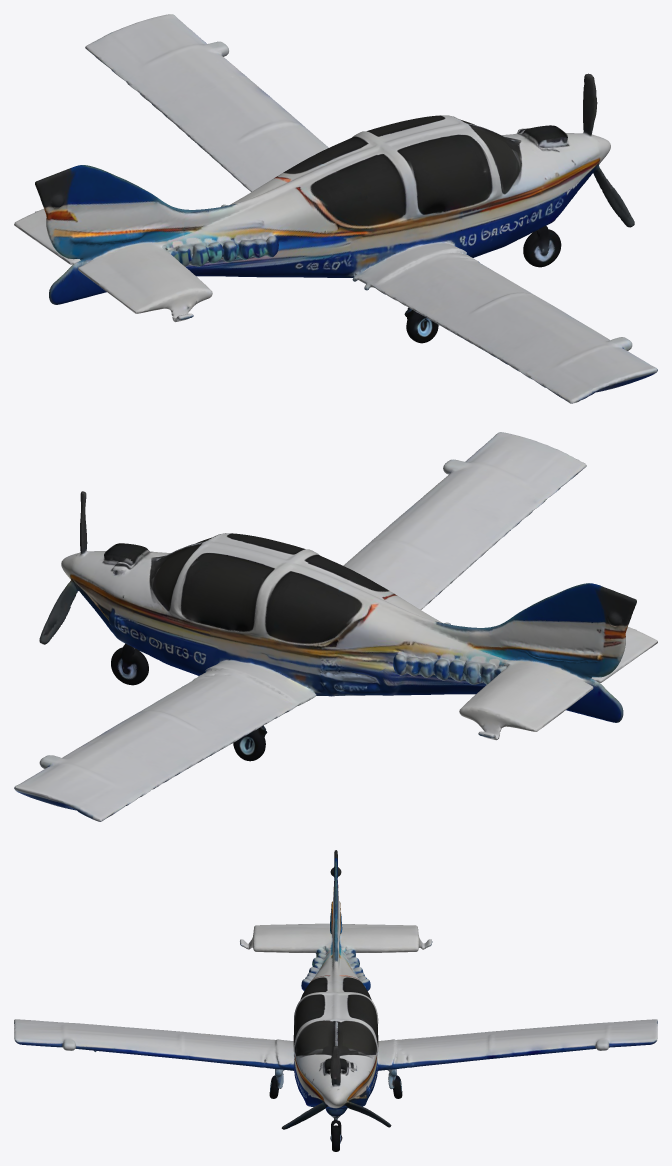
3 renders of one model, top to bottom at view 1: azimuth 30°, elevation 25°; view 2: azimuth 150°, elevation 25°; view 3: azimuth 270°, elevation 25°, orthographic. The views are drawn at different scales.
Parts seen in each view (by area): view 1: tripo_node_de3dab1e-493c-4c67-9f01-aa963383493f; view 2: tripo_node_de3dab1e-493c-4c67-9f01-aa963383493f; view 3: tripo_node_de3dab1e-493c-4c67-9f01-aa963383493f.
Boxes of the visible parts, x1=… form: tripo_node_de3dab1e-493c-4c67-9f01-aa963383493f: x1=14, y1=14, x2=657, y2=403; tripo_node_de3dab1e-493c-4c67-9f01-aa963383493f: x1=14, y1=432, x2=657, y2=821; tripo_node_de3dab1e-493c-4c67-9f01-aa963383493f: x1=14, y1=850, x2=657, y2=1151.
Bounding box in the file's own units: 0.6816 × 0.2431 × 1.
Materials: 1 (1 with a texture image).
